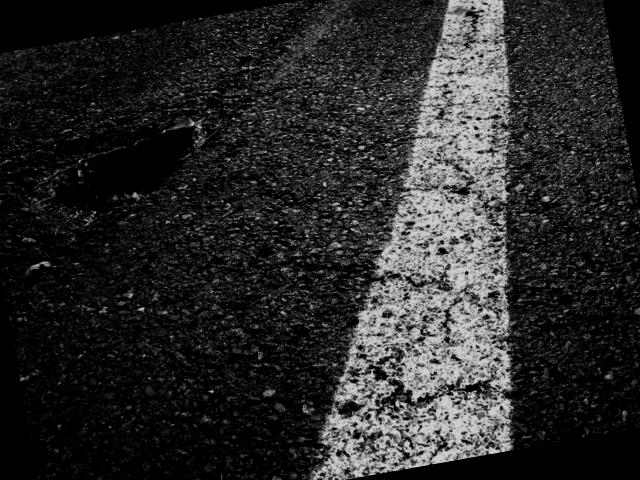Pothole: (13, 83, 248, 240)
